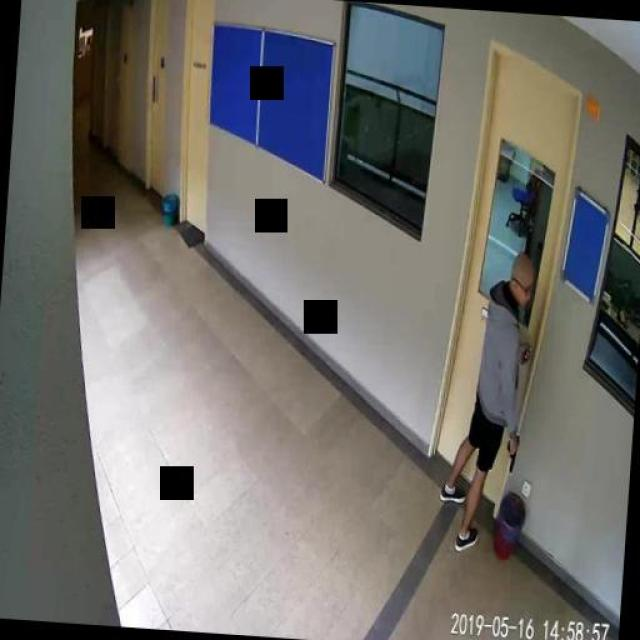gun: (503, 432, 518, 470)
